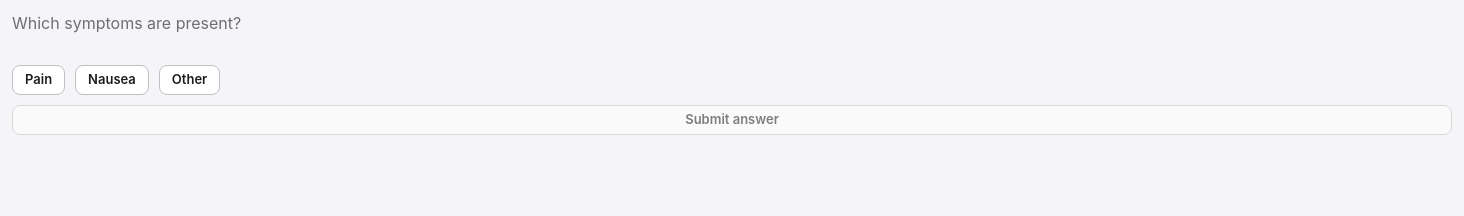
Test case: triage question card rendering › supports multi-select, inline Other input, and explicit submit
Click the button "Pain" at (39, 80), box [12,65,65,95]
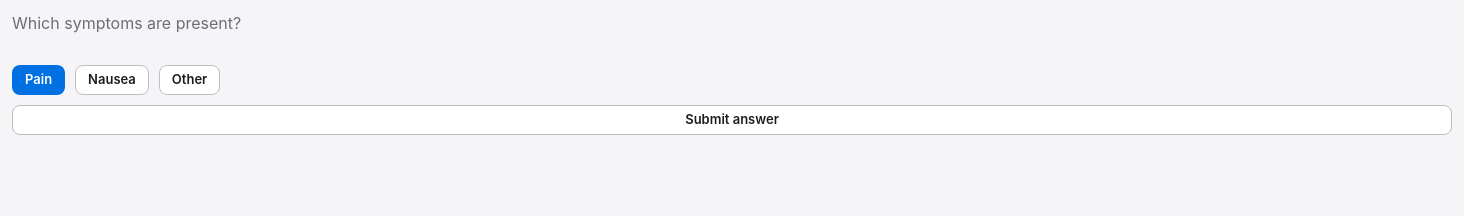
Click the button "Other" at (190, 80), box [159,65,220,95]
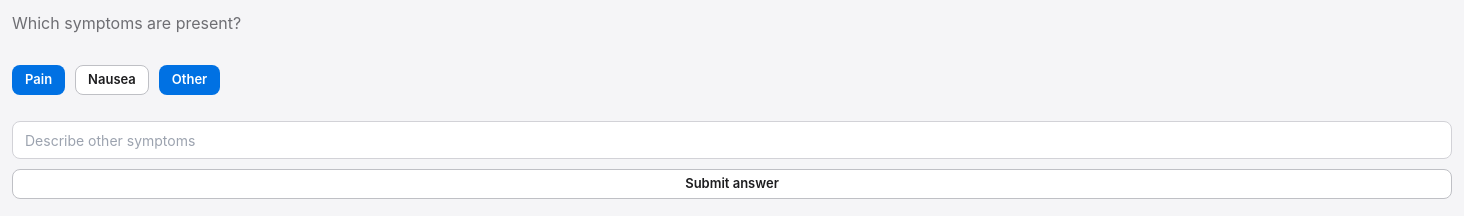
Check: the field with placeholder "Describe other symptoms" is shown
Type "abdominal bloating" into the field with placeholder "Describe other symptoms" at (732, 140), box [12,121,1452,159]
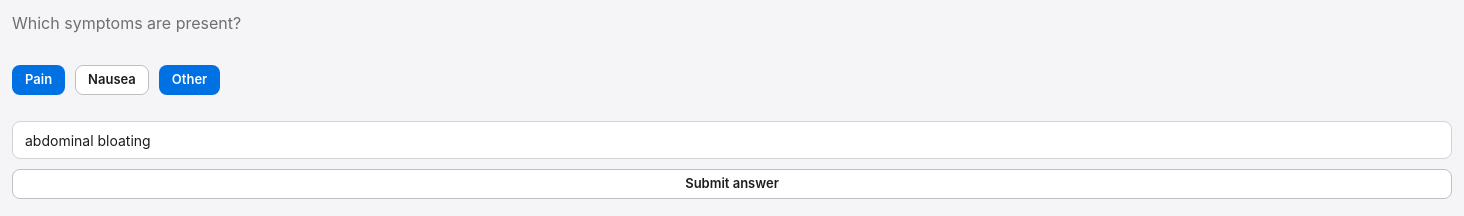
Click the button "Submit answer" at (732, 184), box [12,169,1452,199]
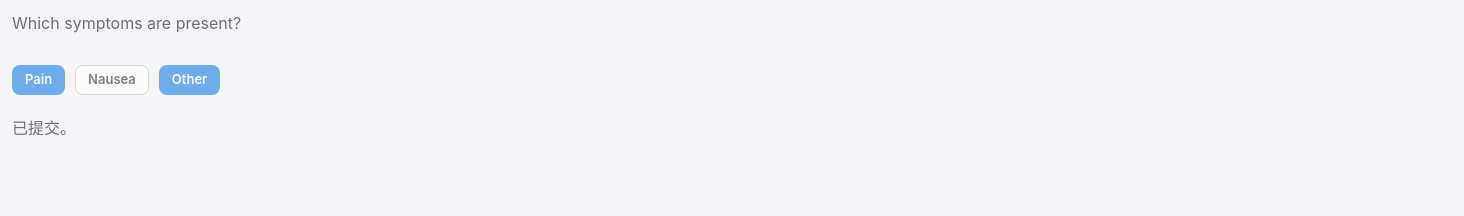
Check: the button "Pain" is disabled, box [12,65,65,95]
Check: the button "Other" is disabled, box [159,65,220,95]
Check: the button "Submit answer" is gone
